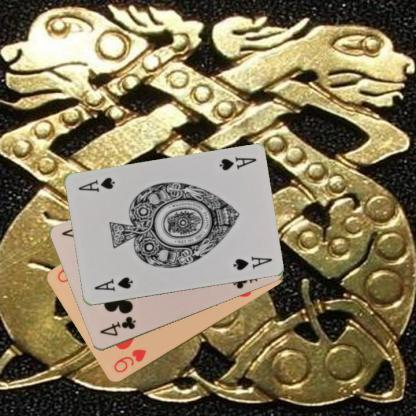4c: (97, 314, 138, 338)
9h: (111, 347, 148, 374)
As: (91, 274, 134, 293), (216, 154, 258, 172)
